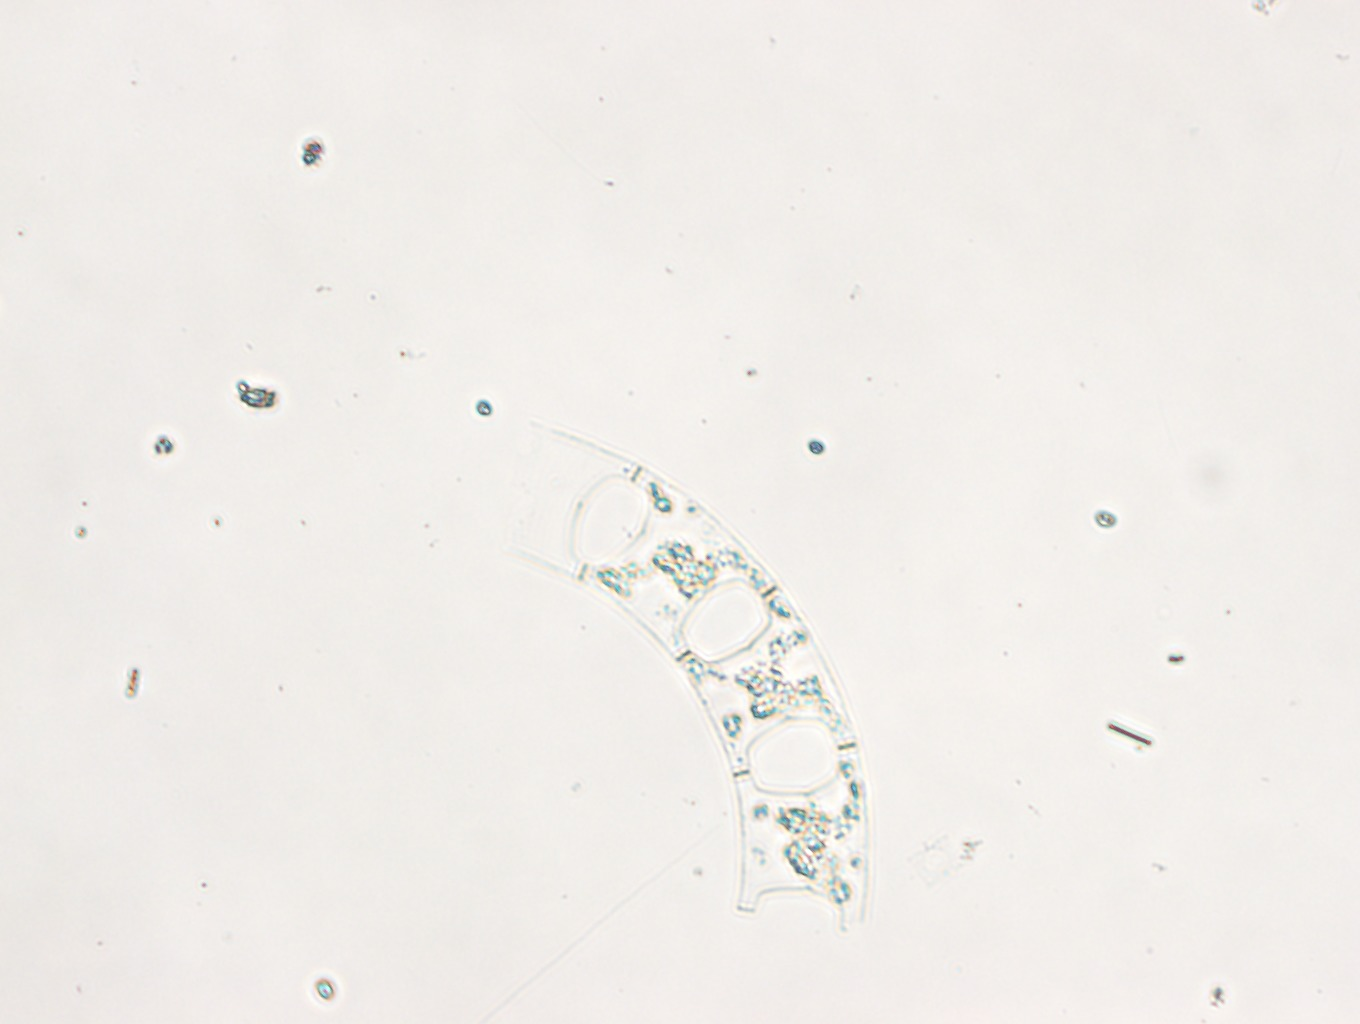dinophysis caudata: (514, 425, 870, 930)
